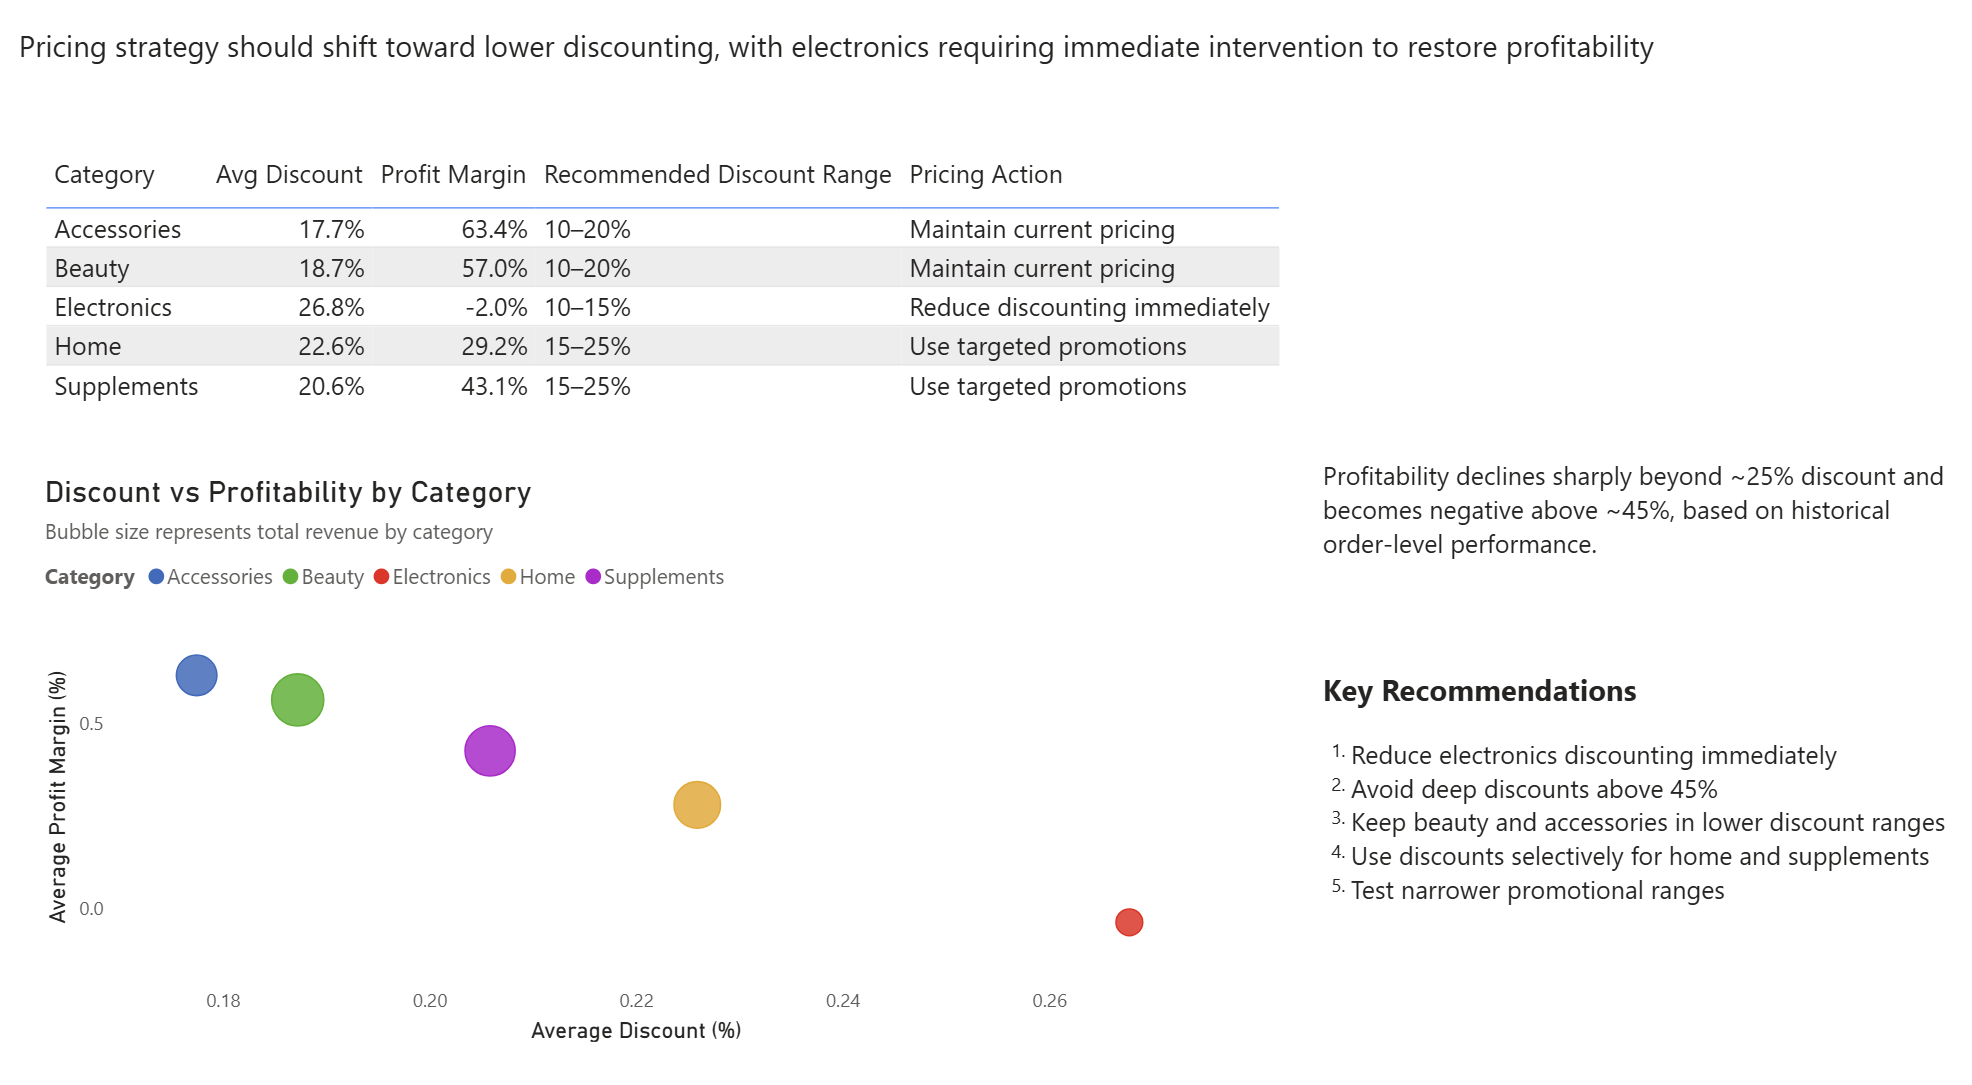

The dashboard page shown, as its layout file describes it:
{"tool":"powerbi","page":{"name":"Channel Strategy","canvas":[1280,720],"ordinal":2},"visuals":[{"type":"textbox","box":[20.4,19.1,1217.5,58.6],"z":2001},{"type":"tableEx","fields":{"Values":["df.category","df.Avg Discount","df.Profit Margin","df.Recommended Discount Range","df.Pricing Action"]},"box":[37,100.7,814.7,181],"z":2002},{"type":"scatterChart","title":"Discount vs Profitability by Category","fields":{"Series":["df.category"],"Size":["df.Total Revenue"],"X":["df.Avg Discount Measure"],"Y":["df.Avg Profit Margin Measure"]},"box":[37,309.8,728,367.2],"z":2005},{"type":"textbox","box":[851.6,429.6,419.4,205.3],"z":2006},{"type":"textbox","box":[851.6,294.5,406.7,109.6],"z":2007}]}

Visuals, with their boxes in screenshot pixels (x1, y1, x2, y2), scaled from the page's 1280x720 canvas onto the 1972x1085 screenshot:
textbox: (left=31, top=29, right=1907, bottom=117)
tableEx - df.category x df.Avg Discount: (left=57, top=152, right=1312, bottom=425)
"Discount vs Profitability by Category" scatterChart: (left=57, top=467, right=1179, bottom=1020)
textbox: (left=1312, top=647, right=1958, bottom=957)
textbox: (left=1312, top=444, right=1939, bottom=609)
